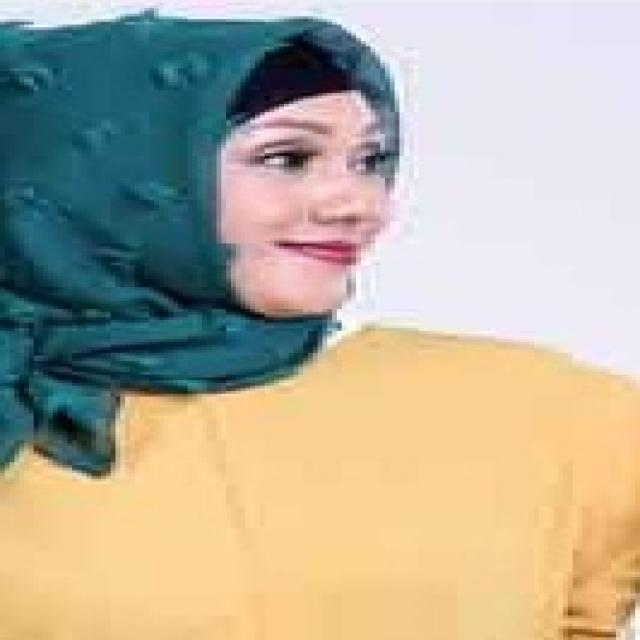head: (72, 8, 419, 323)
